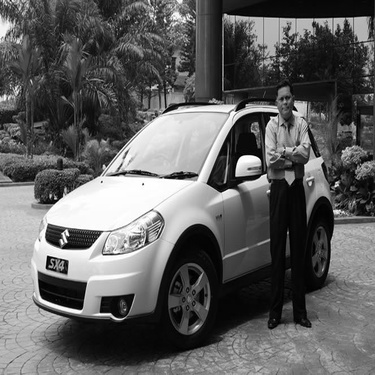car: (20, 88, 343, 347)
